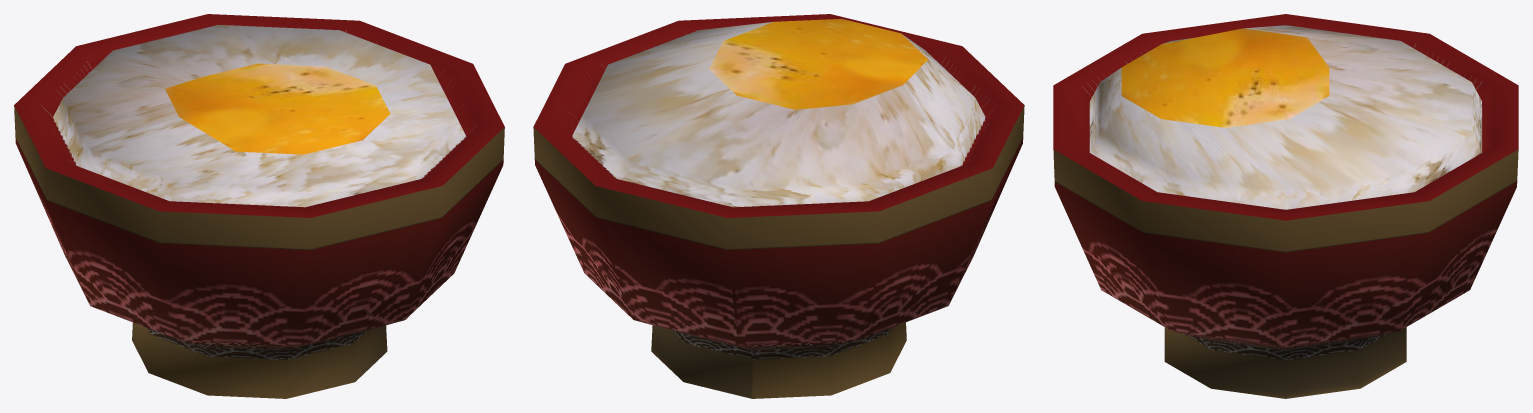
File: KS_GanjangBab_Ground.fbx
3 views of the same model, side by side, from view 1: azimuth 30°, elevation 25°; view 2: azimuth 150°, elevation 25°; view 3: azimuth 270°, elevation 25° (orthographic).
Visible parts, largest first — view 1: Bowl; view 2: Bowl; view 3: Bowl.
Part boxes in pixels (<box>): Bowl: <box>14,14,504,398</box>; Bowl: <box>533,14,1024,398</box>; Bowl: <box>1053,14,1518,398</box>.
Size of the model in its own units: 0.872 by 0.5257 by 0.8293.
